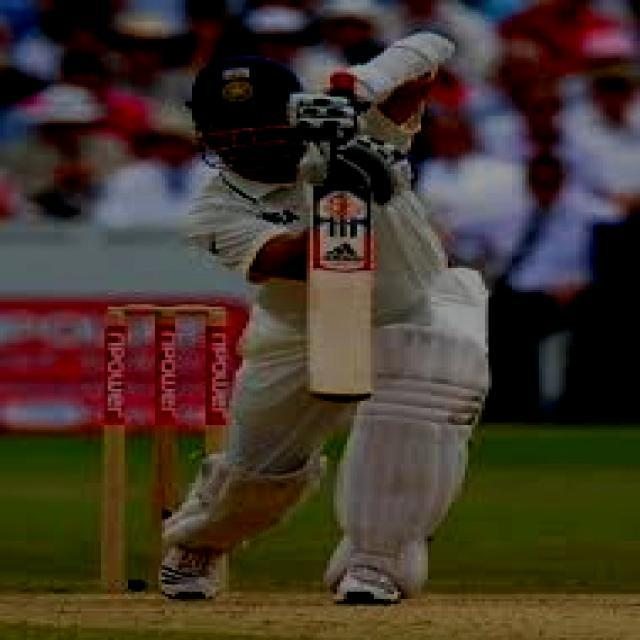bat: (310, 183, 374, 401)
toe: (317, 389, 373, 403)
